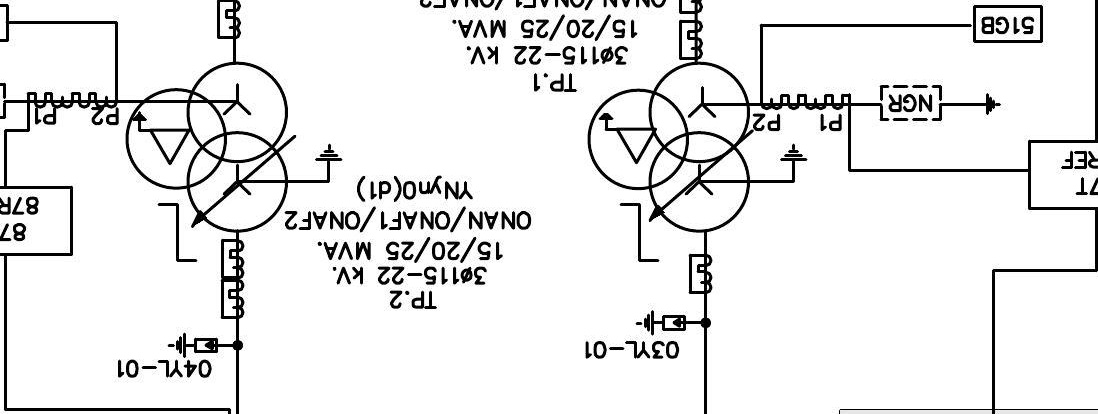11522_tx_ynyn0d1: (586, 60, 751, 234), (124, 60, 289, 234)
115_la: (167, 332, 219, 359), (635, 310, 687, 336)
NGR_future: (879, 84, 1001, 122)
